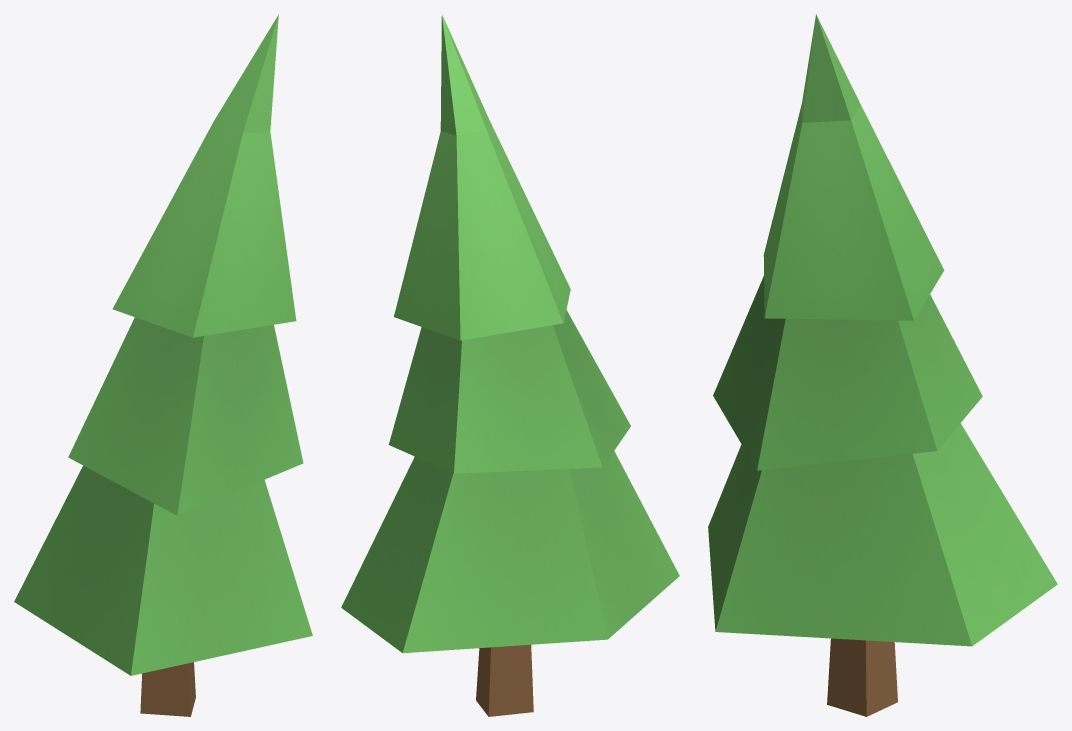
Rendered from Fir_Tree_OneSided_s_03.fbx.
The picture shows the model from 3 angles, left to right: view 1: azimuth 30°, elevation 25°; view 2: azimuth 150°, elevation 25°; view 3: azimuth 270°, elevation 25°; orthographic projection. The views are drawn at different scales.
Visible parts, largest first — view 1: Fir_Tree_OneSided_s_03; view 2: Fir_Tree_OneSided_s_03; view 3: Fir_Tree_OneSided_s_03.
Boxes of the visible parts, <box> form: Fir_Tree_OneSided_s_03: <box>14,14,312,716</box>; Fir_Tree_OneSided_s_03: <box>341,15,679,716</box>; Fir_Tree_OneSided_s_03: <box>708,14,1057,716</box>.
Size of the model in its own units: 95.85 by 250 by 108.
